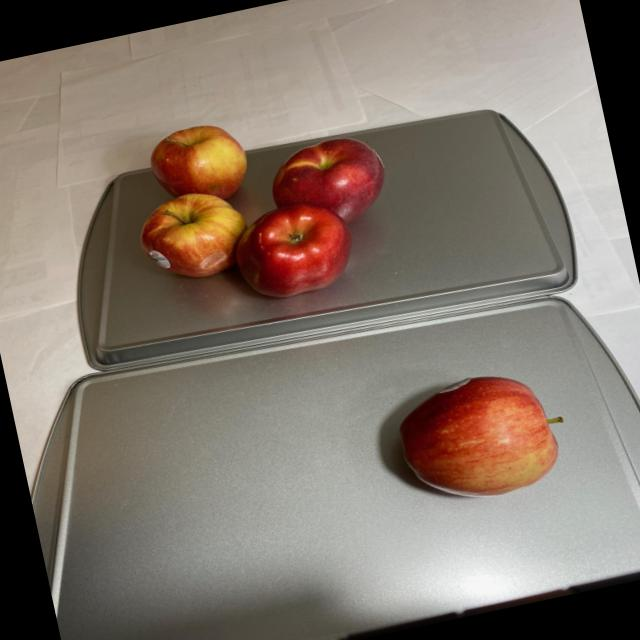apple: (115, 89, 411, 325), (380, 356, 580, 514)
